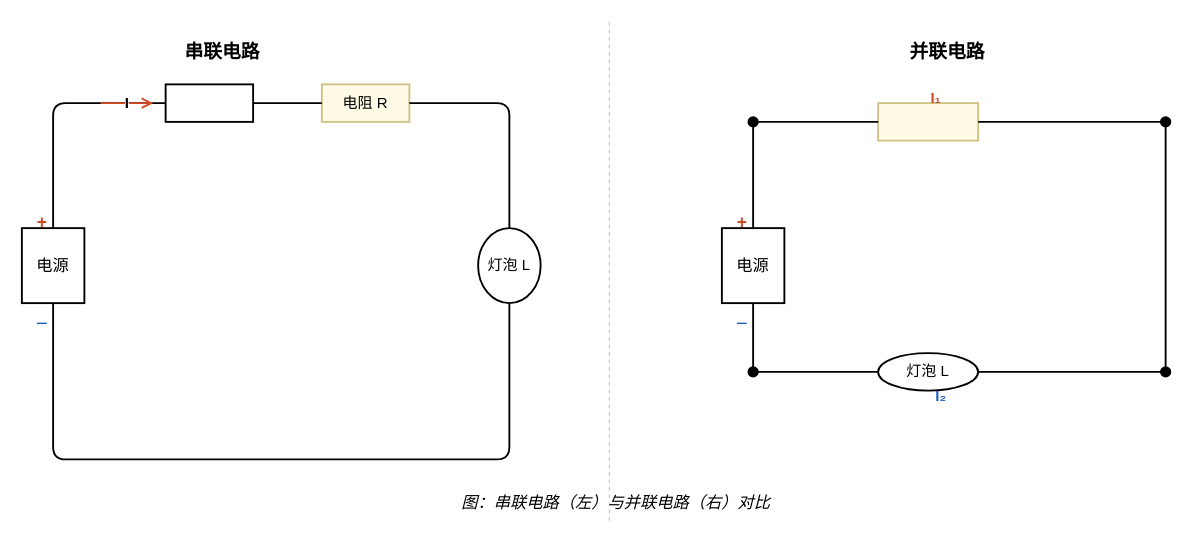
Image size: 1194x545. Some labels were removed from this diagram. The centre of each missing label's shape, as x and y in pixels:
"开关 K" belongs at (209,102).
"电阻 R₁" belongs at (927,121).
